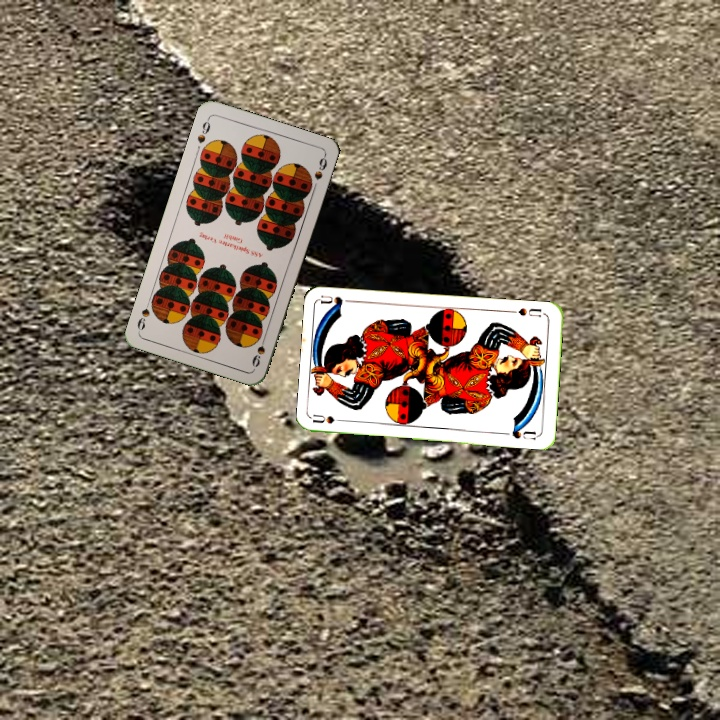S9: (248, 331, 269, 370), (193, 114, 213, 146)
SU: (311, 411, 351, 426), (507, 304, 544, 320)
